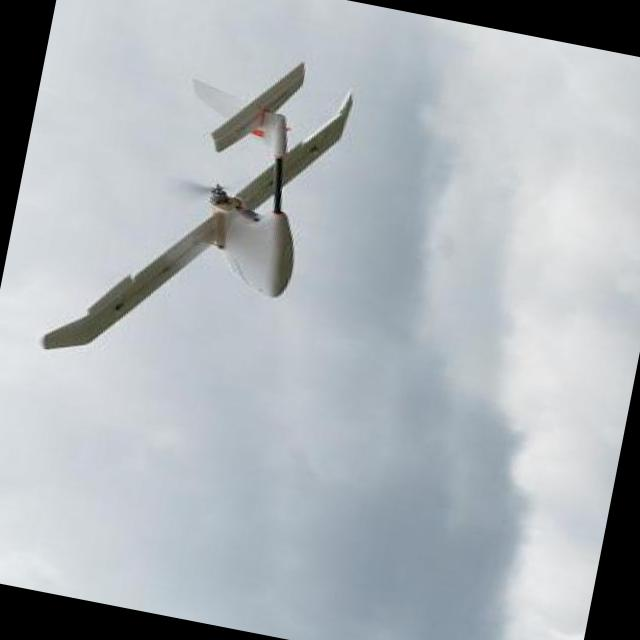UAV: (109, 22, 338, 400)
